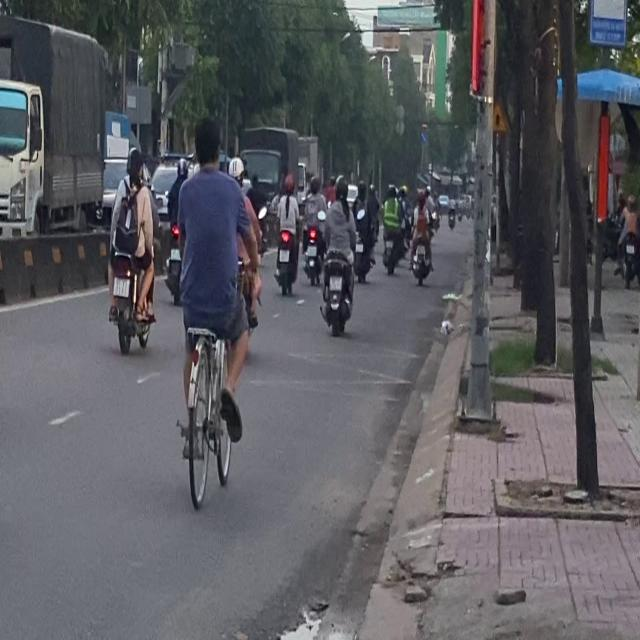licenseplate: (104, 142, 157, 354)
motorcyclist: (125, 146, 145, 188)
nohelmet: (112, 276, 128, 295)
